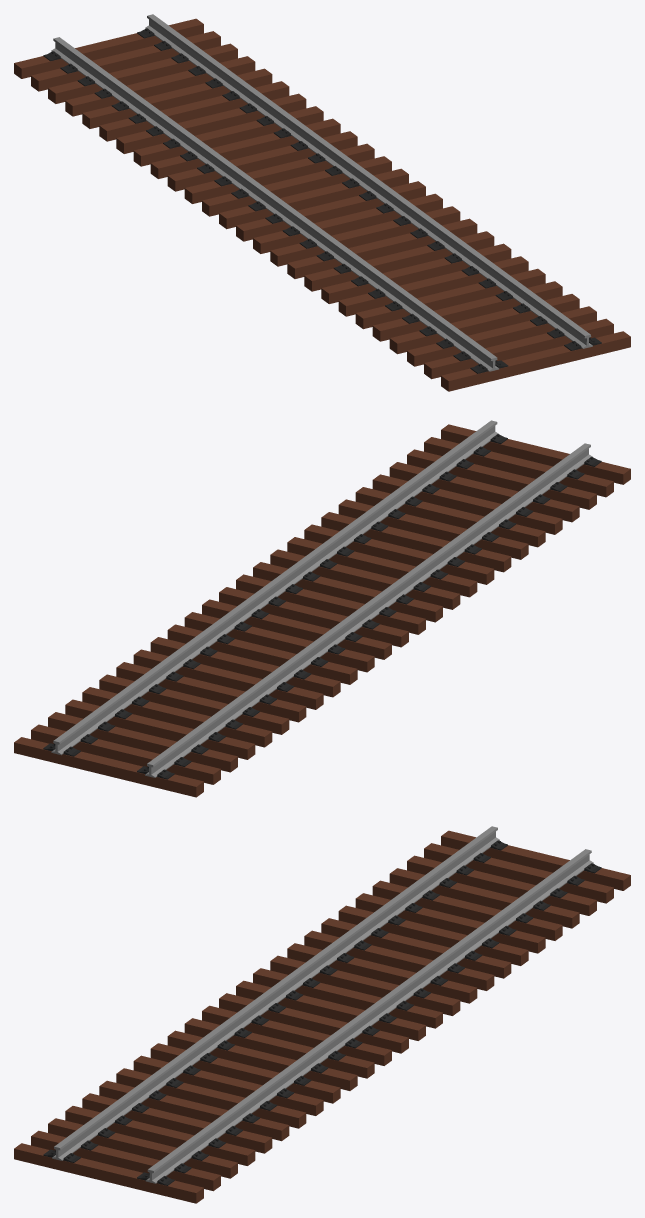
File: TrainTracks.fbx
The picture shows the model from 3 angles, top to bottom: view 1: azimuth 30°, elevation 25°; view 2: azimuth 150°, elevation 25°; view 3: azimuth 330°, elevation 25°; orthographic projection.
Visible parts, largest first — view 1: Planks, Rail, Metal Plates; view 2: Planks, Rail, Metal Plates; view 3: Planks, Rail, Metal Plates.
Part boxes in pixels (box(x1,y1,x2,y2)): Planks: box(14, 18, 630, 391); Rail: box(51, 14, 592, 371); Metal Plates: box(43, 28, 601, 373); Planks: box(14, 424, 630, 797); Rail: box(51, 420, 592, 777); Metal Plates: box(43, 434, 601, 779); Planks: box(14, 830, 630, 1203); Rail: box(52, 826, 593, 1183); Metal Plates: box(43, 840, 601, 1185).
Bounding box in the file's own units: 1110 × 138 × 4613.
